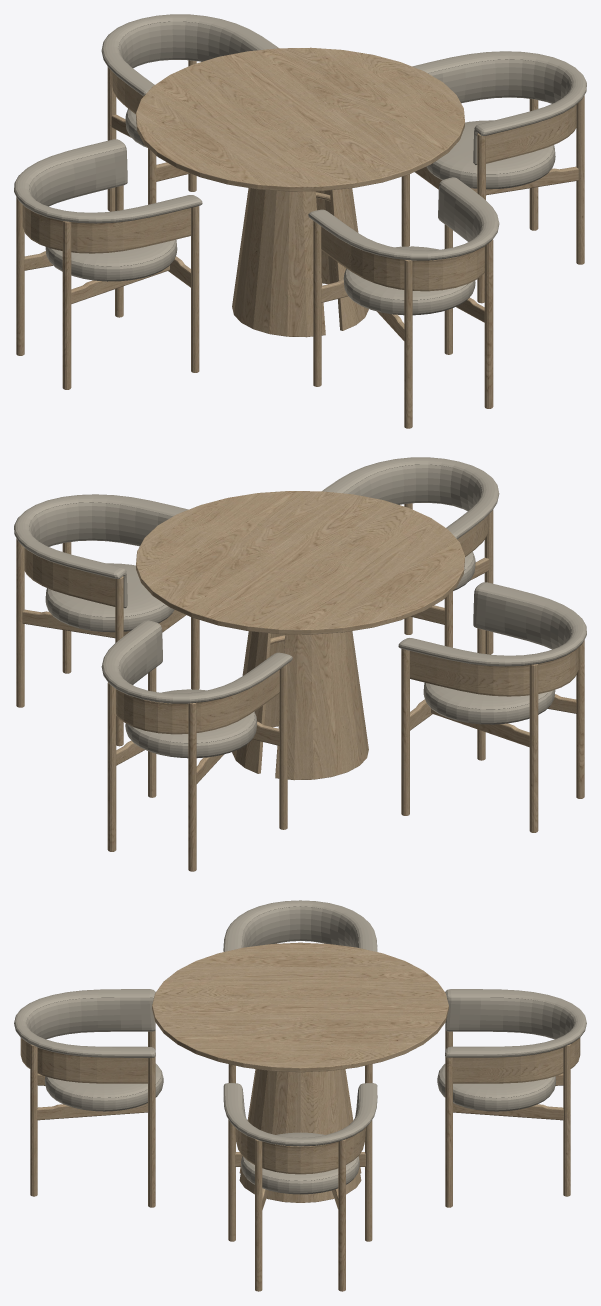
Rendered from bella-3d-round-dining-set.glb.
3 views of the same model, one above another, from view 1: azimuth 30°, elevation 25°; view 2: azimuth 150°, elevation 25°; view 3: azimuth 270°, elevation 25° (orthographic). The views are drawn at different scales.
Parts seen in each view (by area): view 1: round-dining-set-part-2, round-dining-set-part-3; view 2: round-dining-set-part-2, round-dining-set-part-3; view 3: round-dining-set-part-2, round-dining-set-part-3.
Part boxes in pixels (box(x1,y1,x2,y2)): round-dining-set-part-2: box(16, 47, 584, 428); round-dining-set-part-3: box(14, 14, 586, 315); round-dining-set-part-2: box(16, 491, 584, 871); round-dining-set-part-3: box(14, 457, 586, 758); round-dining-set-part-2: box(20, 942, 580, 1291); round-dining-set-part-3: box(14, 900, 586, 1194).
Bounding box in the file's own units: 2.26 × 0.7497 × 2.26.
Materials: 2 (1 with a texture image).
